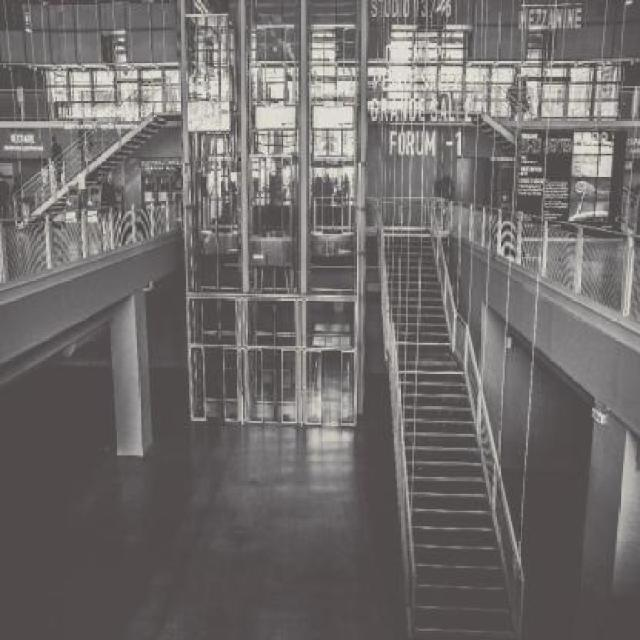stair: (384, 237, 514, 640)
